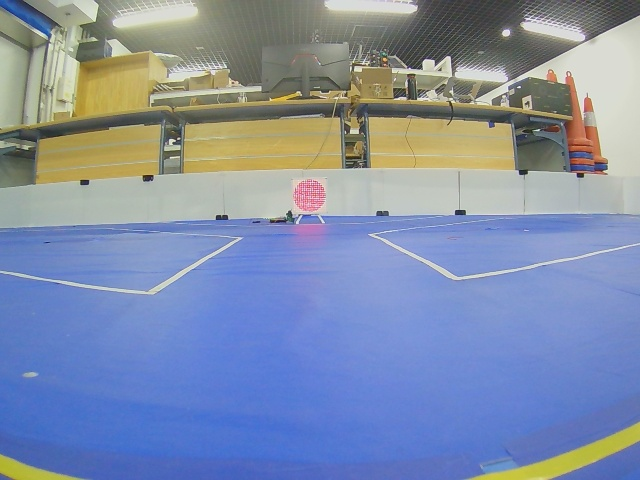red: (293, 179, 326, 213)
